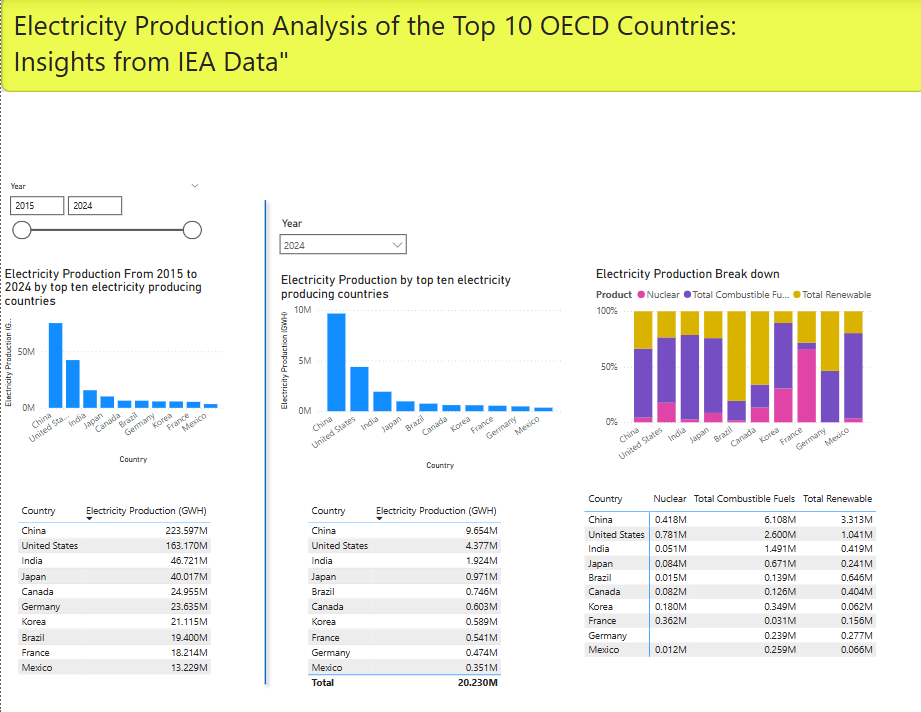

Layout of this report page (visuals, bound fields, positions):
{"tool":"powerbi","page":{"name":"Electricity Generation by Top 10 Countries","canvas":[1280,1000],"ordinal":0},"visuals":[{"type":"clusteredColumnChart","title":"Electricity Production From 2015 to 2024 by top ten electricity producing countries","fields":{"Category":["MES_0125.Country"],"Y":["Sum(MES_0125.Value)"]},"box":[0,373.2,314.4,278.2],"z":0},{"type":"tableEx","fields":{"Values":["MES_0125.Country","Sum(MES_0125.Value)"]},"box":[17.3,694.5,297.2,281.6],"z":1000},{"type":"slicer","fields":{"Values":["MES_0125.Year"]},"box":[0,252.2,285.1,120.9],"z":2000},{"type":"hundredPercentStackedColumnChart","title":"Electricity Production Break down","fields":{"Category":["MES_0125.Country"],"Series":["MES_0125.Product"],"Y":["Sum(MES_0125.Value)"]},"box":[817.2,373.2,392.2,292],"z":3000},{"type":"slicer","fields":{"Values":["Energy Data.Year"]},"box":[374.9,300.6,195.2,72.6],"z":4000},{"type":"clusteredColumnChart","title":"Electricity Production by top ten electricity producing countries","fields":{"Category":["MES_0125.Country"],"Y":["Sum(MES_0125.Value)"]},"box":[381.8,381.8,399.1,278.2],"z":5000},{"type":"tableEx","fields":{"Values":["MES_0125.Country","Sum(MES_0125.Value)"]},"box":[418.1,694.5,302.4,281.6],"z":6000},{"type":"pivotTable","fields":{"Rows":["Energy Data.Country"],"Columns":["Energy Data.Product"],"Values":["Sum(Energy Data.Value)"]},"box":[801.7,679,435.4,281.6],"z":7000},{"type":"shape","box":[285.1,273,160.7,687.6],"z":8000},{"type":"shape","box":[0,0,1280.2,133],"z":9000},{"type":"textbox","box":[12.1,8.6,1116.1,117.5],"z":10000}]}

Visuals, with their boxes in screenshot pixels (x1, y1, x2, y2), scaled from the page's 1280x1000 canvas onto the 921x712 screenshot:
"Electricity Production From 2015 to 2024 by top ten electricity producing countries" clusteredColumnChart: region(0, 266, 226, 464)
tableEx - MES_0125.Country x Sum(MES_0125.Value): region(12, 494, 226, 695)
slicer - MES_0125.Year: region(0, 180, 205, 266)
"Electricity Production Break down" hundredPercentStackedColumnChart: region(588, 266, 870, 474)
slicer - Energy Data.Year: region(270, 214, 410, 266)
"Electricity Production by top ten electricity producing countries" clusteredColumnChart: region(275, 272, 562, 470)
tableEx - MES_0125.Country x Sum(MES_0125.Value): region(301, 494, 518, 695)
pivotTable - Energy Data.Country x Energy Data.Product: region(577, 483, 890, 684)
shape: region(205, 194, 321, 684)
shape: region(0, 0, 920, 95)
textbox: region(9, 6, 812, 90)
